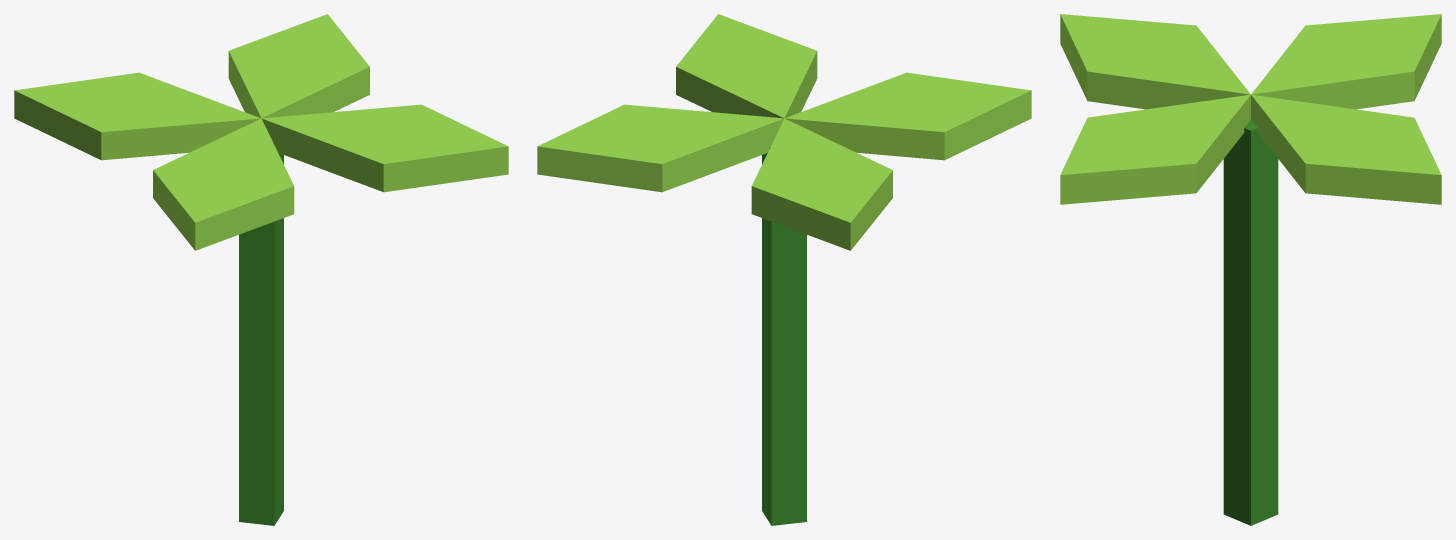
Rendered from Clover.fbx.
The picture shows the model from 3 angles, left to right: view 1: azimuth 30°, elevation 25°; view 2: azimuth 150°, elevation 25°; view 3: azimuth 270°, elevation 25°; orthographic projection. The views are drawn at different scales.
Visible parts, largest first — view 1: Clover; view 2: Clover; view 3: Clover.
Boxes of the visible parts, bbox=[...] form: Clover: bbox=[14, 14, 508, 525]; Clover: bbox=[537, 14, 1031, 525]; Clover: bbox=[1060, 14, 1441, 525].
Bounding box in the file's own units: 0.7 × 0.85 × 0.7.
Materials: 1 (1 with a texture image).
